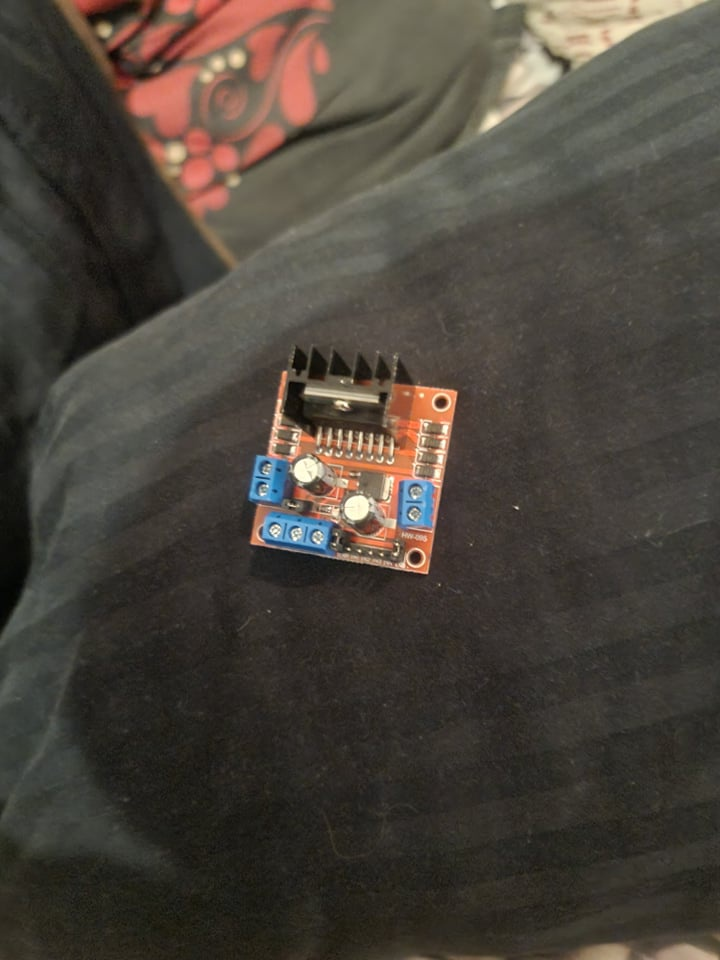MOTOR: (246, 341, 459, 580)
